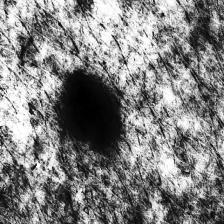Benign Marking or Mole: (68, 70, 119, 148)
